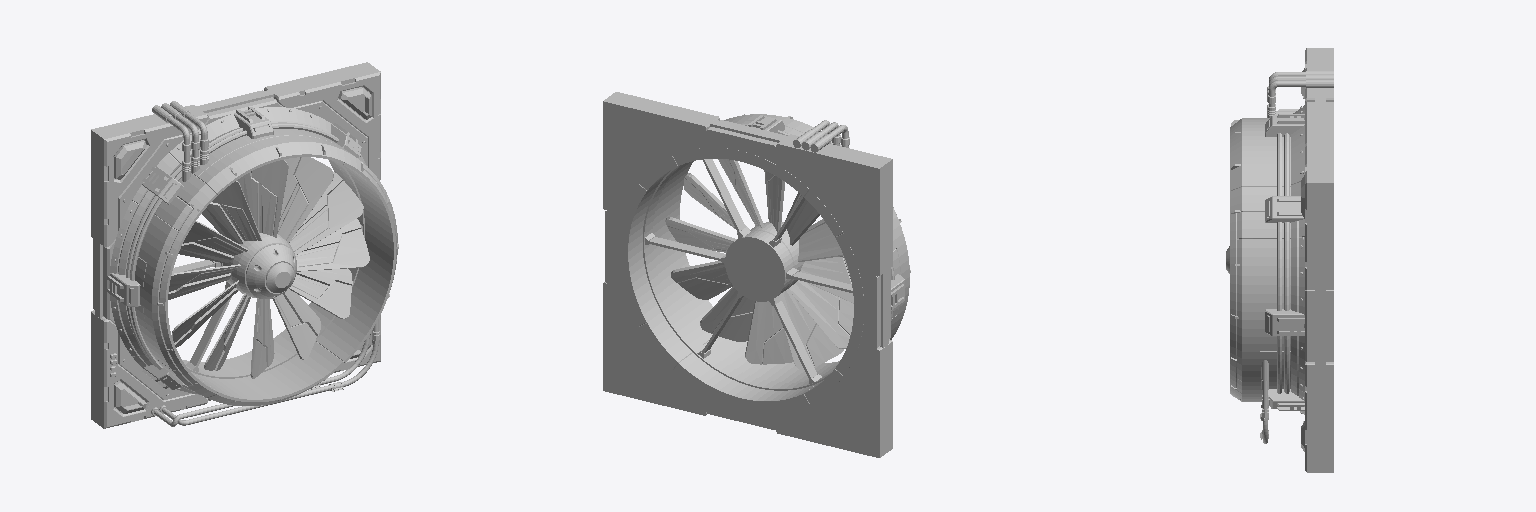
File: Sci-Fi Parts Kit Pack Vol 02_Free.obj
3 renders of one model, left to right at view 1: azimuth 30°, elevation 25°; view 2: azimuth 150°, elevation 25°; view 3: azimuth 270°, elevation 25°, orthographic.
Visible parts, largest first — view 1: F_003, F_004, F_008, F_002, F_007, F_006, F_005; view 2: F_008, F_003, F_004, F_007, F_006; view 3: F_003, F_008, F_002, F_006.
Part boxes in pixels (x1,y1,x2,y2): F_003: (107, 107, 398, 405); F_004: (168, 157, 369, 378); F_008: (91, 62, 380, 428); F_002: (109, 107, 366, 394); F_007: (172, 161, 364, 378); F_006: (152, 101, 208, 181); F_005: (154, 319, 378, 426); F_008: (603, 92, 892, 457); F_003: (618, 114, 910, 411); F_004: (665, 159, 853, 369); F_007: (643, 159, 852, 390); F_006: (793, 120, 849, 152); F_003: (1230, 109, 1304, 410); F_008: (1301, 48, 1333, 472); F_002: (1291, 105, 1304, 414); F_006: (1267, 71, 1333, 117).
Bounding box in the file's own units: 79.72 × 82.07 × 26.89.